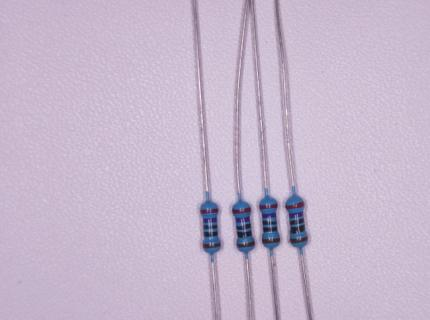Black band: (290, 224, 305, 233), (237, 230, 252, 238), (236, 223, 251, 230), (290, 218, 305, 225), (204, 231, 218, 238), (263, 226, 277, 232), (262, 220, 277, 225), (203, 225, 217, 229)
Brown band: (289, 236, 308, 244), (237, 240, 255, 248), (202, 242, 221, 249), (262, 237, 280, 244)
Red band: (285, 201, 304, 210), (232, 207, 251, 214), (258, 203, 277, 210), (200, 207, 218, 214)
Violet band: (289, 211, 304, 219), (262, 212, 277, 219), (235, 216, 250, 223), (203, 217, 217, 223)
